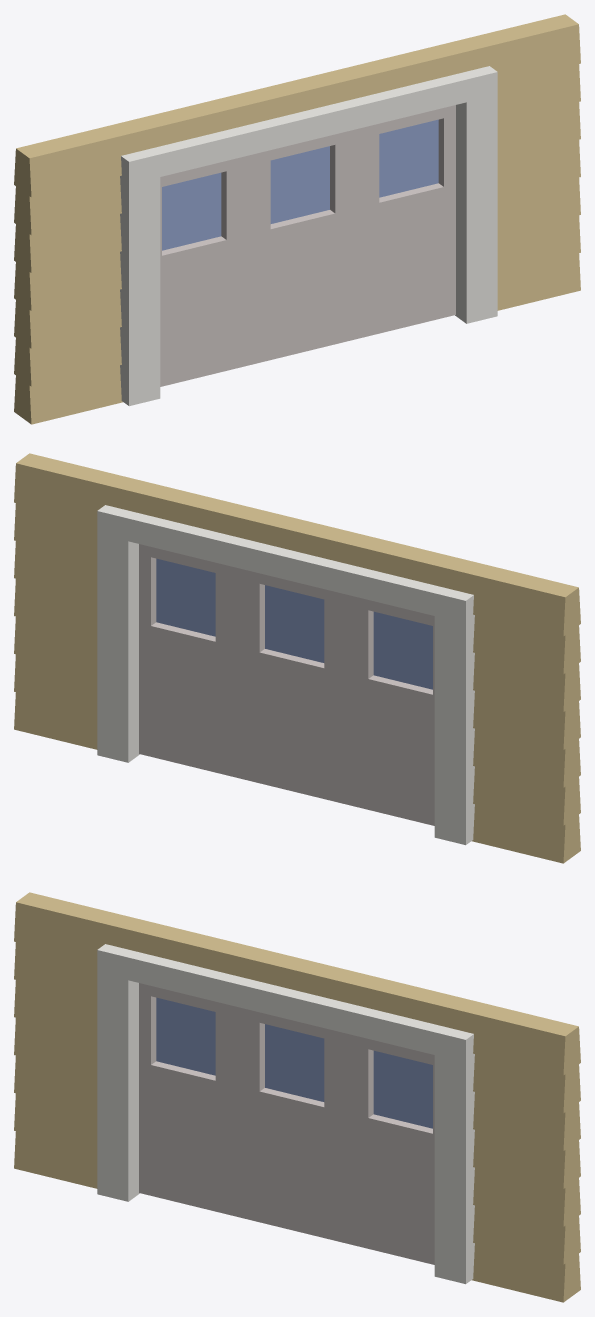
The model's file is GarageDoor01_house4.fbx.
3 renders of one model, top to bottom at view 1: azimuth 30°, elevation 25°; view 2: azimuth 150°, elevation 25°; view 3: azimuth 330°, elevation 25°, orthographic.
Visible parts, largest first — view 1: GarageDoor01; view 2: GarageDoor01; view 3: GarageDoor01.
Boxes of the visible parts, x1=… form: GarageDoor01: x1=14, y1=14, x2=580, y2=424; GarageDoor01: x1=14, y1=453, x2=580, y2=863; GarageDoor01: x1=14, y1=892, x2=580, y2=1302.
Bounding box in the file's own units: 718 × 330 × 72.12.
